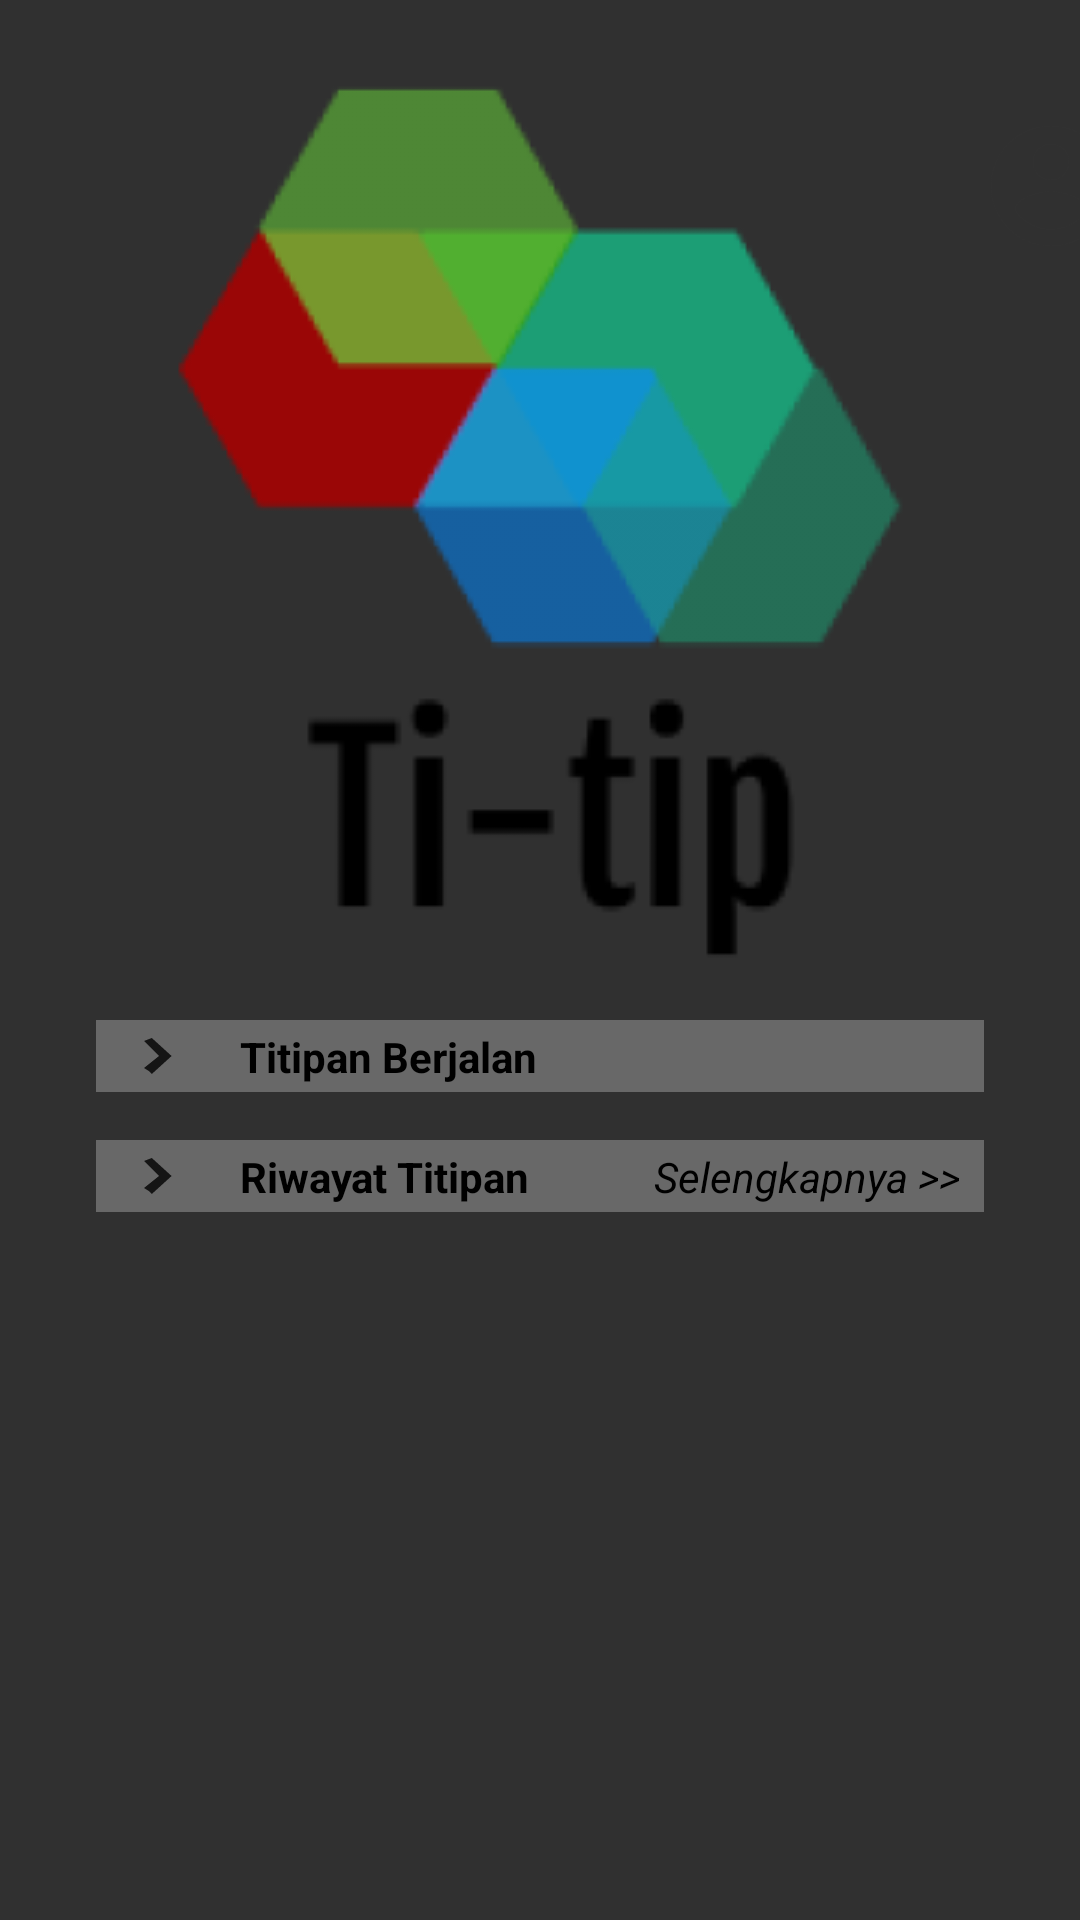

Icons on this 1080x1920 Android screen, each with its box as [x1, y1, x2, y2]:
expand: [144, 1038, 171, 1074], [144, 1158, 171, 1194]
